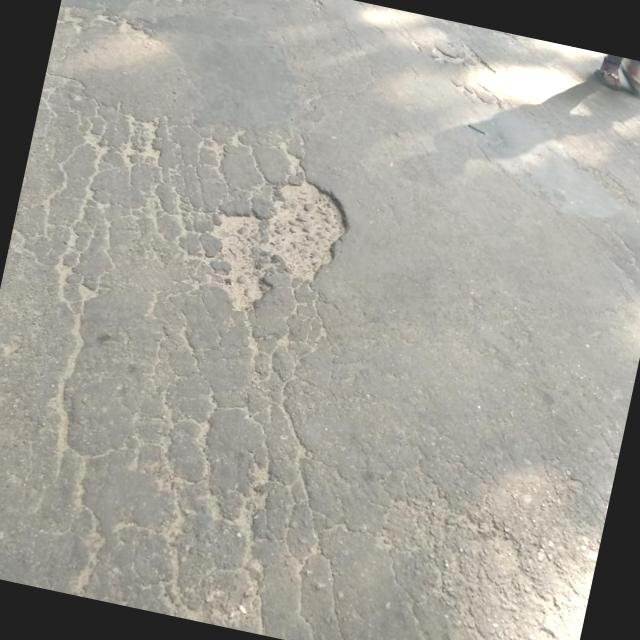Lubang: (211, 184, 344, 311)
